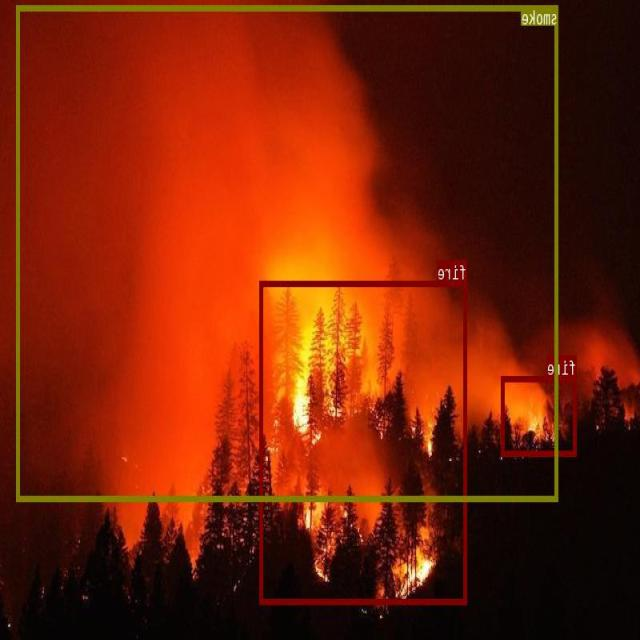fire: (261, 281, 468, 603), (502, 375, 578, 455)
smoke: (17, 4, 559, 500)
